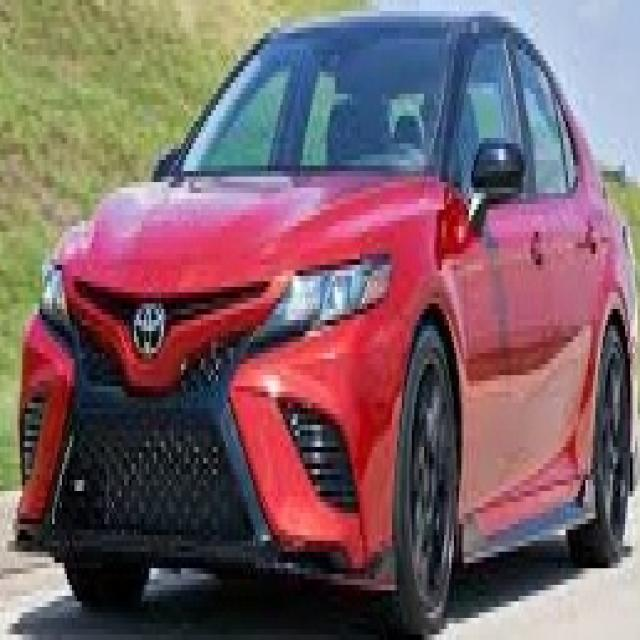red: (12, 1, 640, 581)
